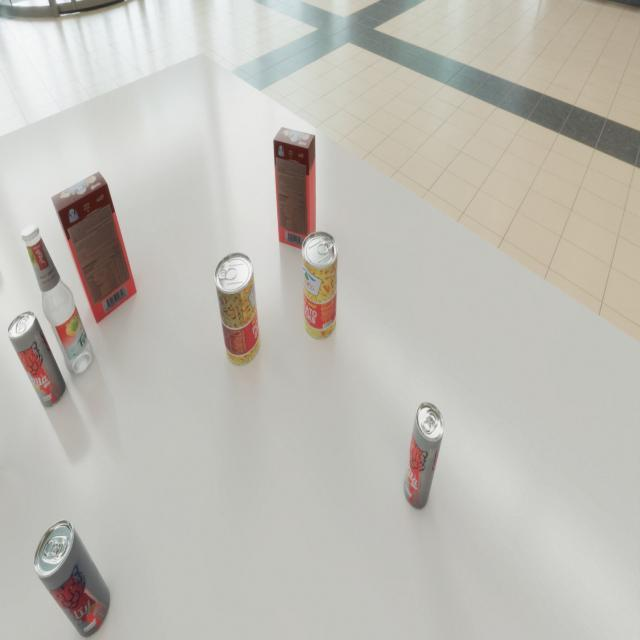Bottle: (21, 224, 94, 376)
HelloPanda: (51, 172, 137, 324), (273, 127, 316, 252)
Potato_sticks: (214, 252, 260, 366), (302, 231, 338, 340)
Rita_zero_sugar: (34, 520, 110, 637), (7, 311, 66, 408), (404, 402, 444, 509)
